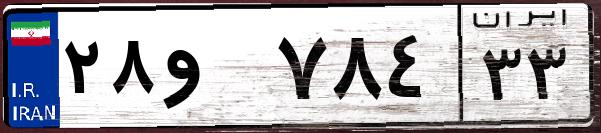2: (57, 26, 110, 100)
3: (475, 38, 525, 113), (525, 38, 570, 115)
4: (385, 28, 445, 110)
7: (270, 28, 330, 110)
8: (330, 28, 385, 110), (110, 28, 158, 98)
و: (158, 20, 270, 120)
